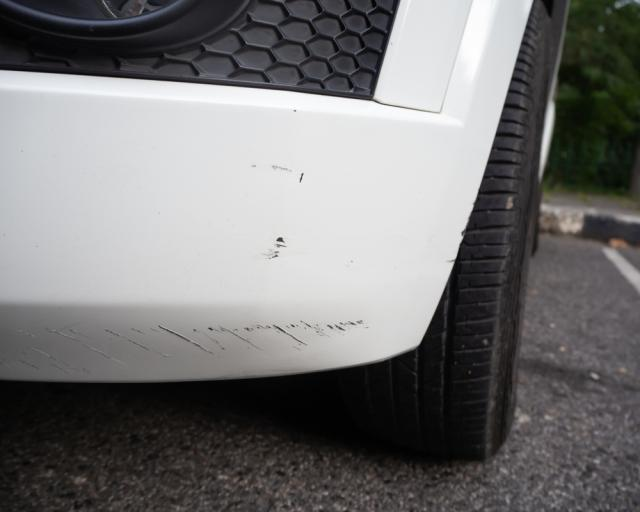scratch: (0, 311, 370, 370), (247, 157, 312, 188), (255, 231, 288, 266)
